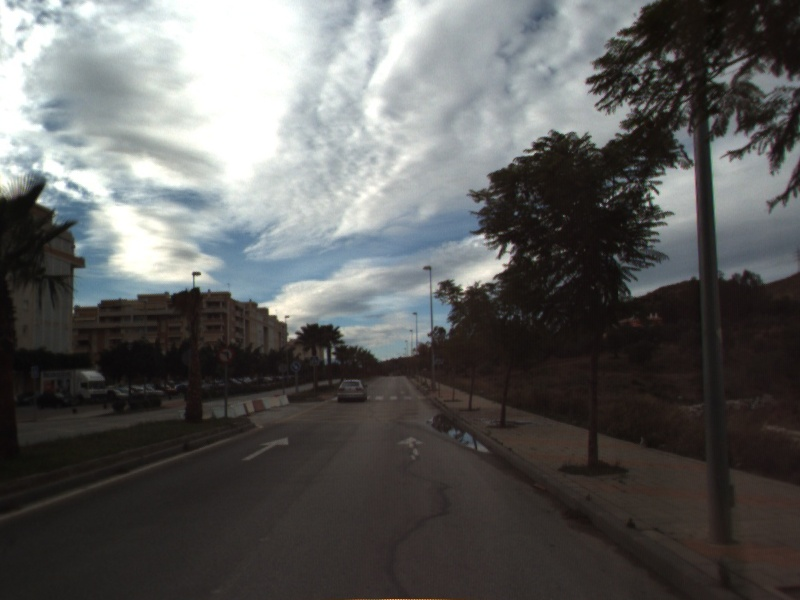STRAIGHT: (240, 435, 290, 462), (395, 434, 427, 463)
